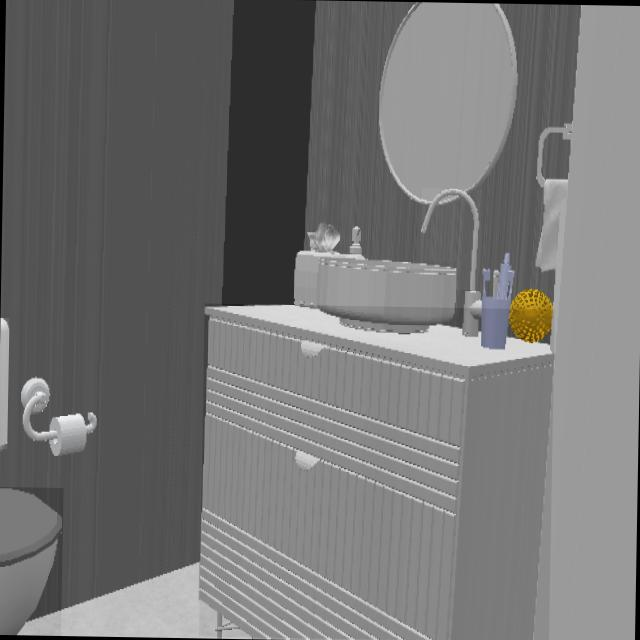cabinet: (200, 305, 553, 640)
toilet: (0, 487, 62, 635), (0, 318, 9, 447)
washbasin: (317, 259, 456, 327), (421, 189, 479, 290)
